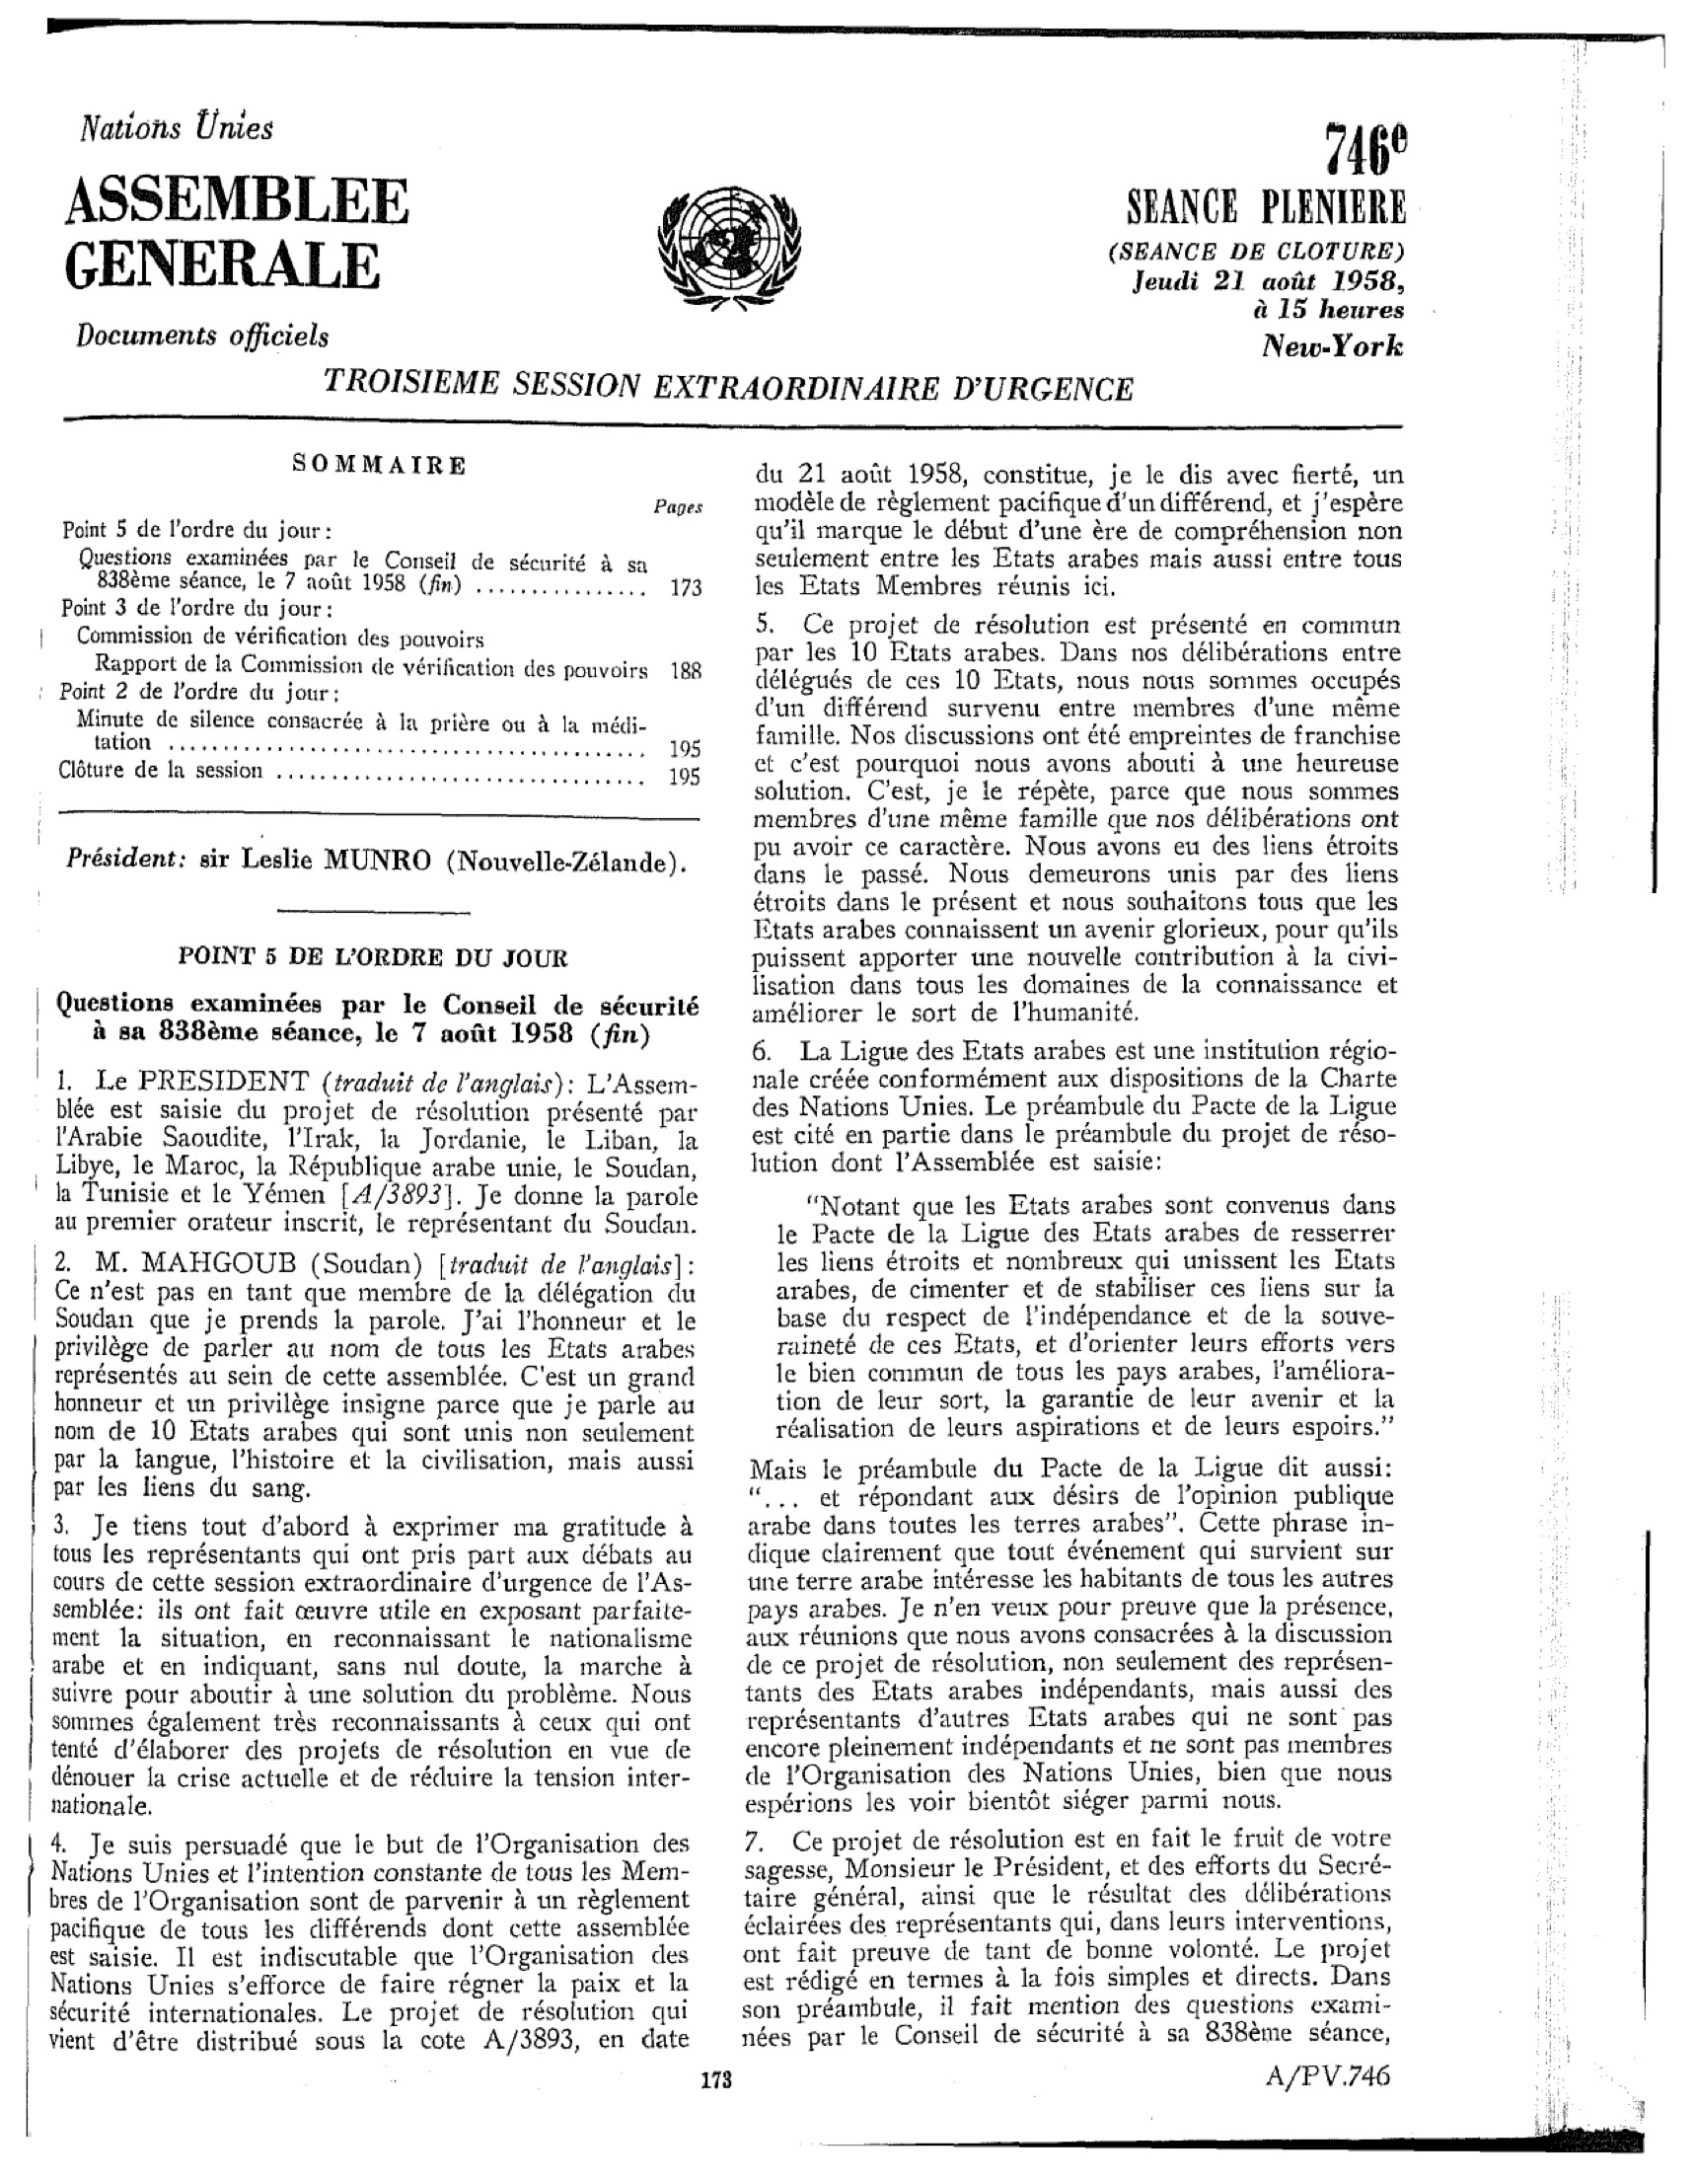GraphicZone: (645, 182, 807, 317)
MainZone-Continued: (748, 451, 1411, 602)
MainZone-Date: (1109, 264, 1421, 324)
MainZone-Head: (47, 103, 419, 348), (1095, 88, 1425, 270), (313, 354, 1143, 413), (53, 985, 706, 1054), (167, 932, 579, 976), (1231, 324, 1425, 375), (280, 443, 478, 487)
MainZone-ListItem: (747, 606, 1412, 1028), (42, 1508, 700, 1819), (46, 1243, 703, 1504), (738, 1823, 1403, 2056), (42, 1827, 696, 2062), (49, 1070, 708, 1240), (746, 1033, 1404, 1179)
MainZone-P: (739, 1450, 1401, 1819), (763, 1188, 1404, 1444)
QuireMarksZone: (46, 481, 719, 889)
TitlePageZone: (1261, 2057, 1396, 2096), (694, 2064, 736, 2099)
